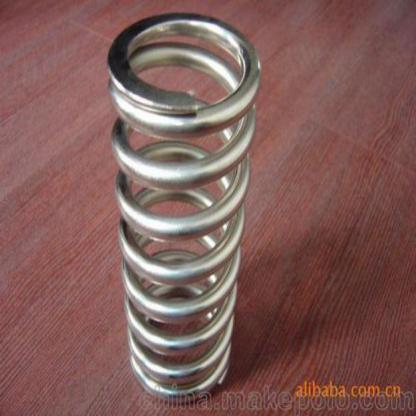FOD: (104, 6, 263, 408)
